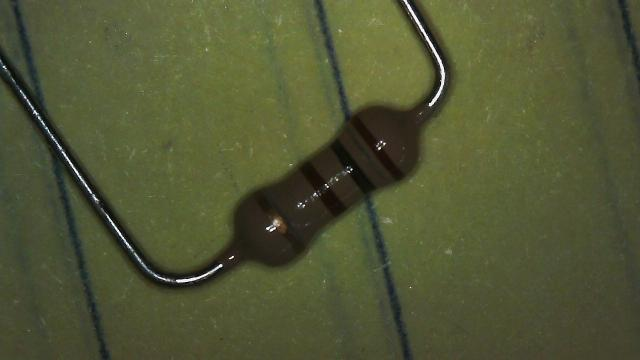black: (334, 140, 376, 194)
brown: (352, 115, 408, 182), (300, 162, 348, 219)
gold: (254, 190, 306, 255)
resistor: (169, 66, 447, 317)
